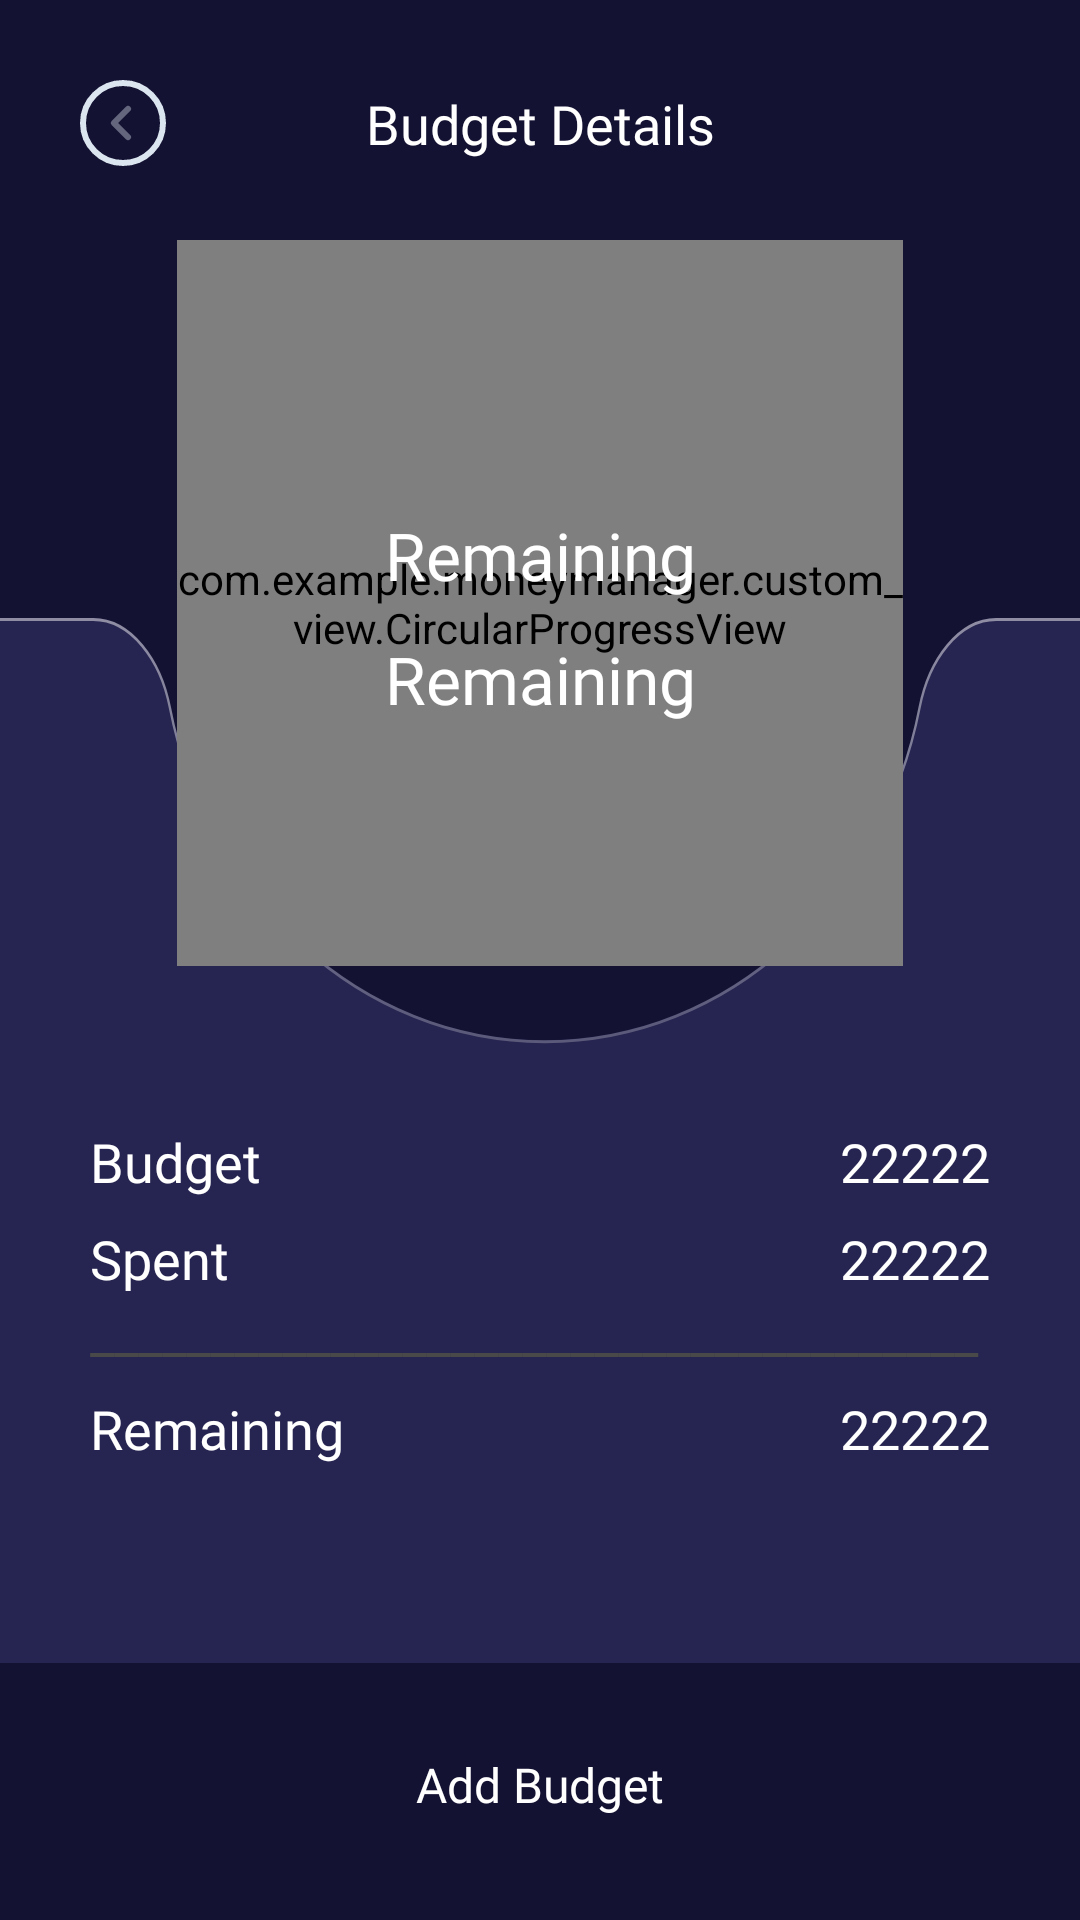

Icon bounding boxes for this 1080 x 1920 phone screenshot, format Rect(x1, y1, x2, y2):
back: Rect(80, 80, 166, 166)
